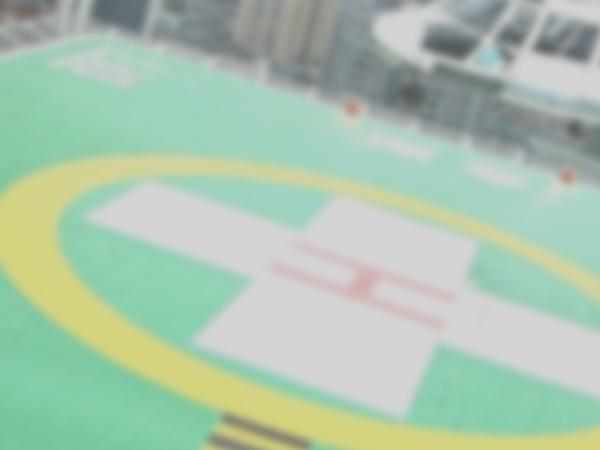Apron: (2, 112, 600, 450)
